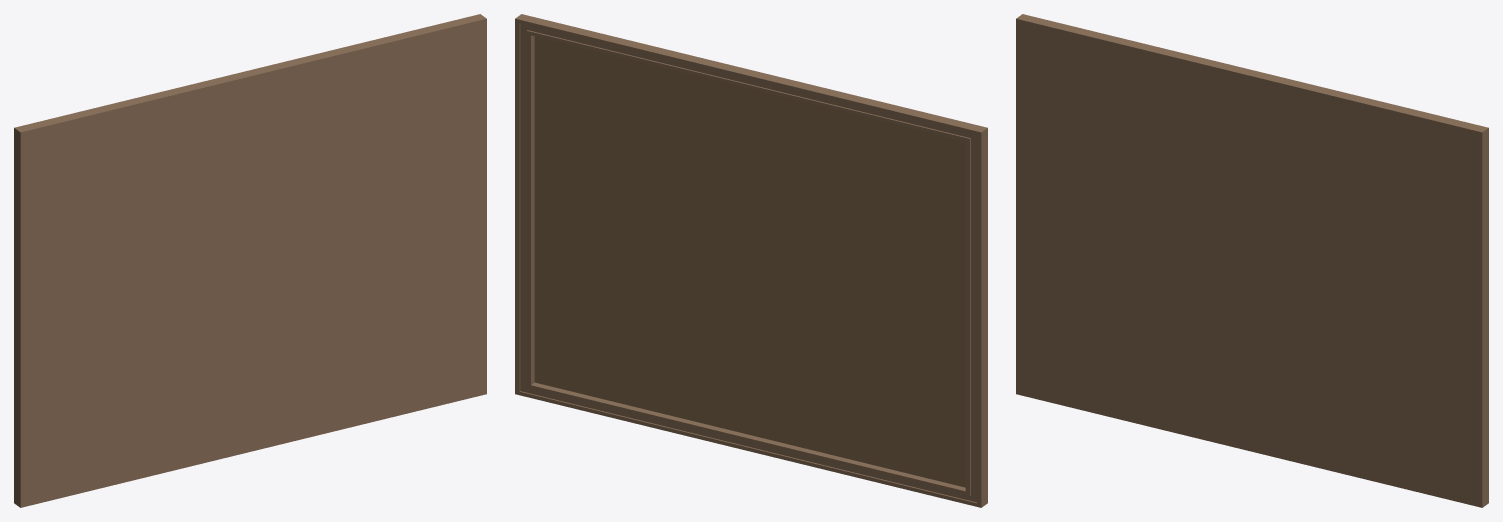
File: Painting.fbx
3 views of the same model, side by side, from view 1: azimuth 30°, elevation 25°; view 2: azimuth 150°, elevation 25°; view 3: azimuth 330°, elevation 25° (orthographic).
Parts seen in each view (by area): view 1: Plane.004; view 2: Plane.003, Plane.004; view 3: Plane.004.
Boxes of the visible parts, box(x1,y1,x2,y2) form: Plane.004: box(14, 14, 486, 507); Plane.003: box(534, 36, 965, 487); Plane.004: box(515, 14, 987, 507); Plane.004: box(1016, 14, 1488, 507).
Bounding box in the file's own units: 70.21 × 54.03 × 1.68.
